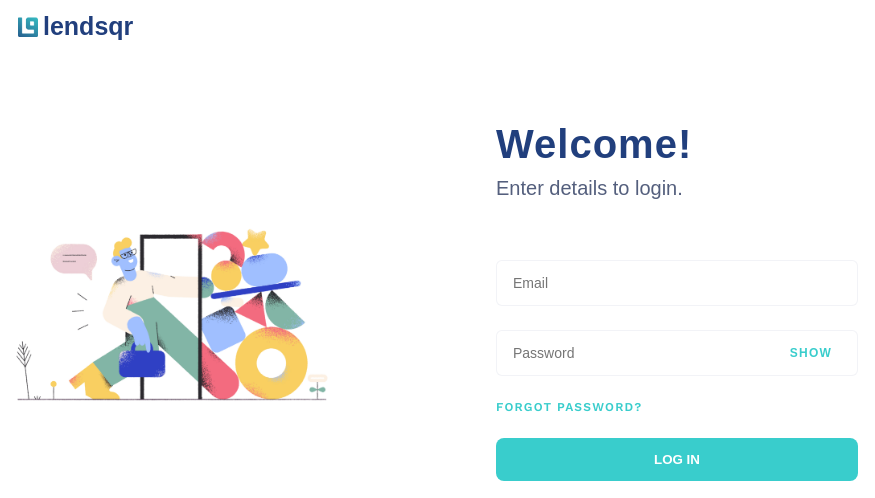
Test: Login Component › toggles password visibility
Click the button "SHOW" at (811, 352), box [784,344,838,360]
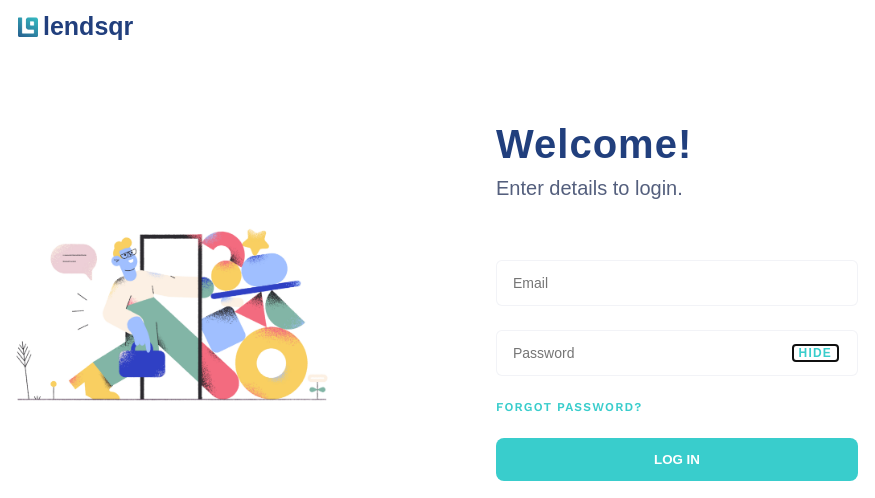
Result: the button named "show" reads "HIDE"
Click the button named "show" at (815, 352), box [792,344,838,360]
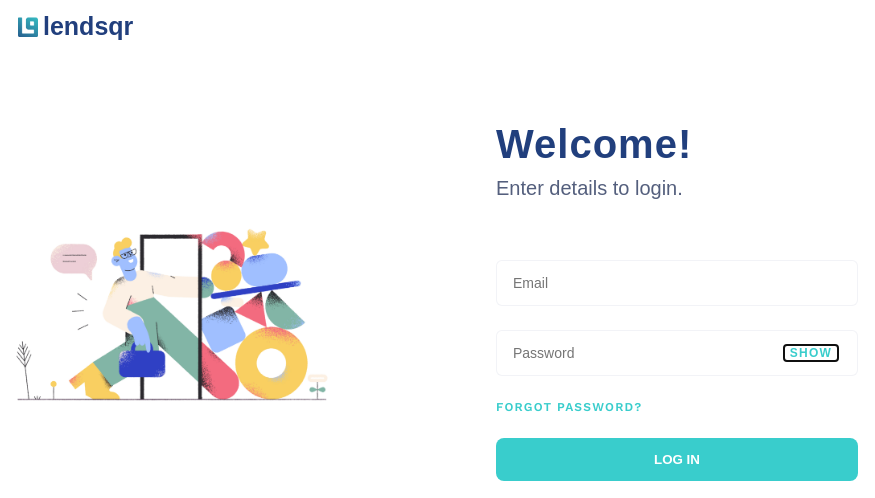
Result: the button "SHOW" is shown at [784,344,838,360]
